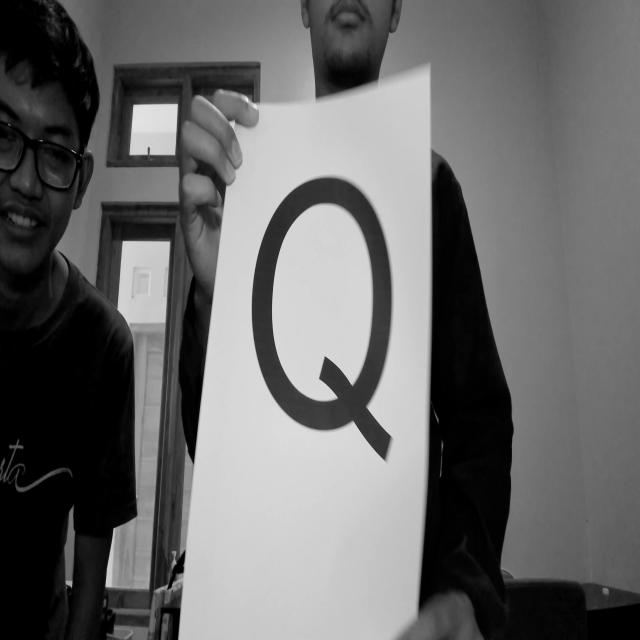q: (233, 169, 438, 527)
